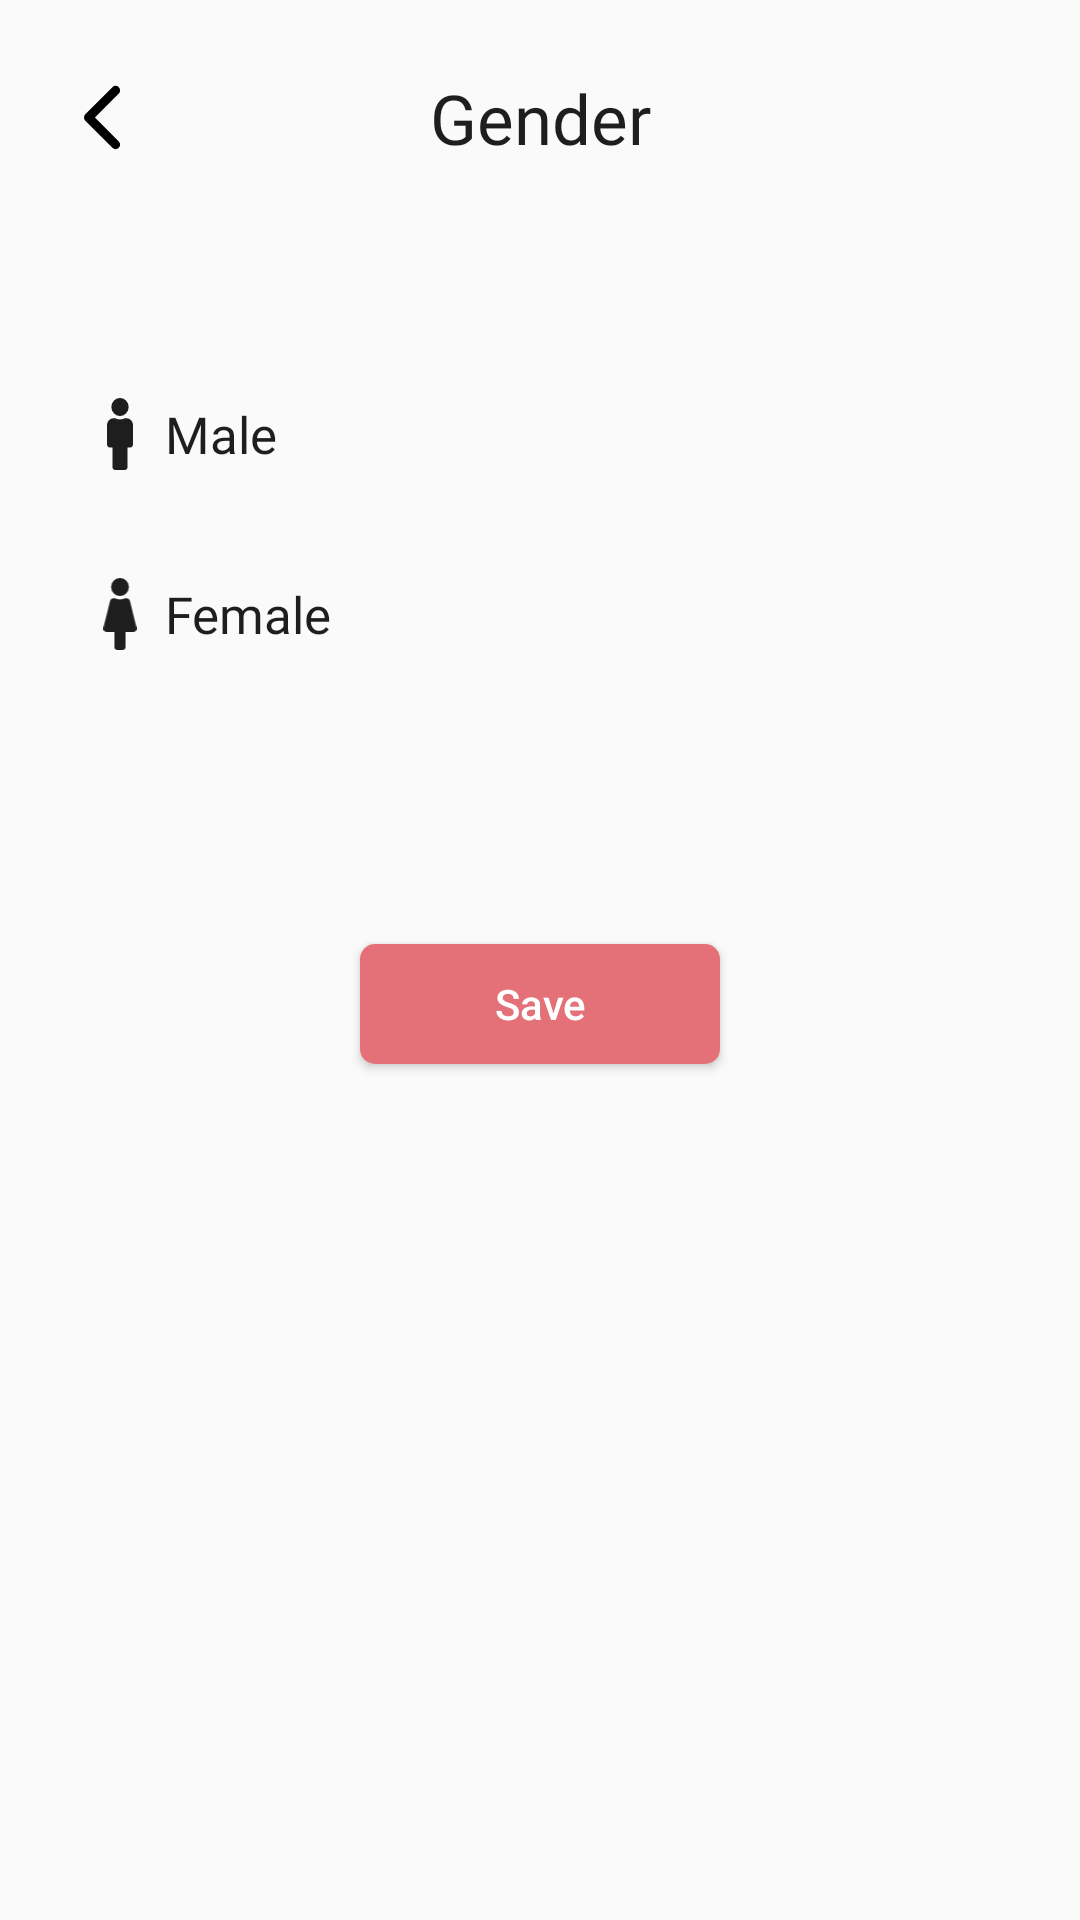

Screen size 1080w x 1920h. Icon name, then its box in pixels as [x1, y1, x2, y2]:
back: [84, 85, 120, 150]
